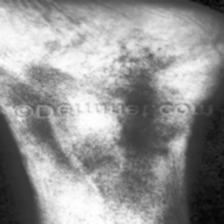Non-Cancerous Skin Condition: (32, 118, 173, 174)
